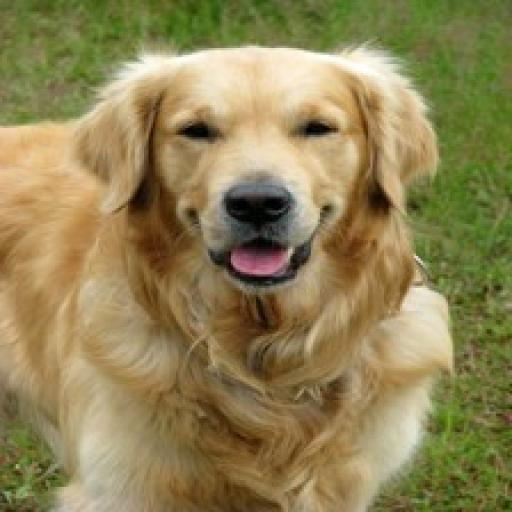dog: (0, 34, 456, 512)
